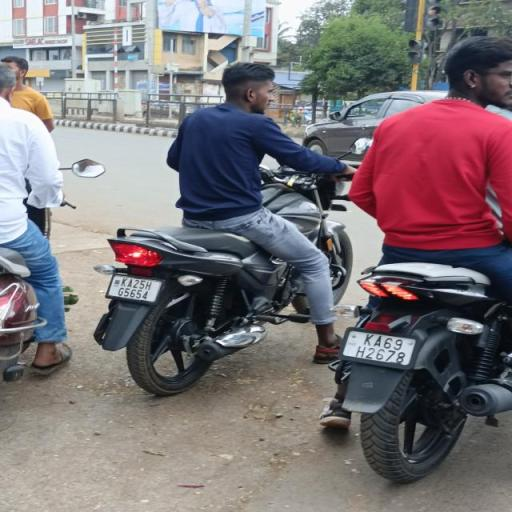bike: (95, 53, 370, 400)
numberplate: (107, 271, 156, 304)
withouthelmet: (223, 64, 272, 106)
